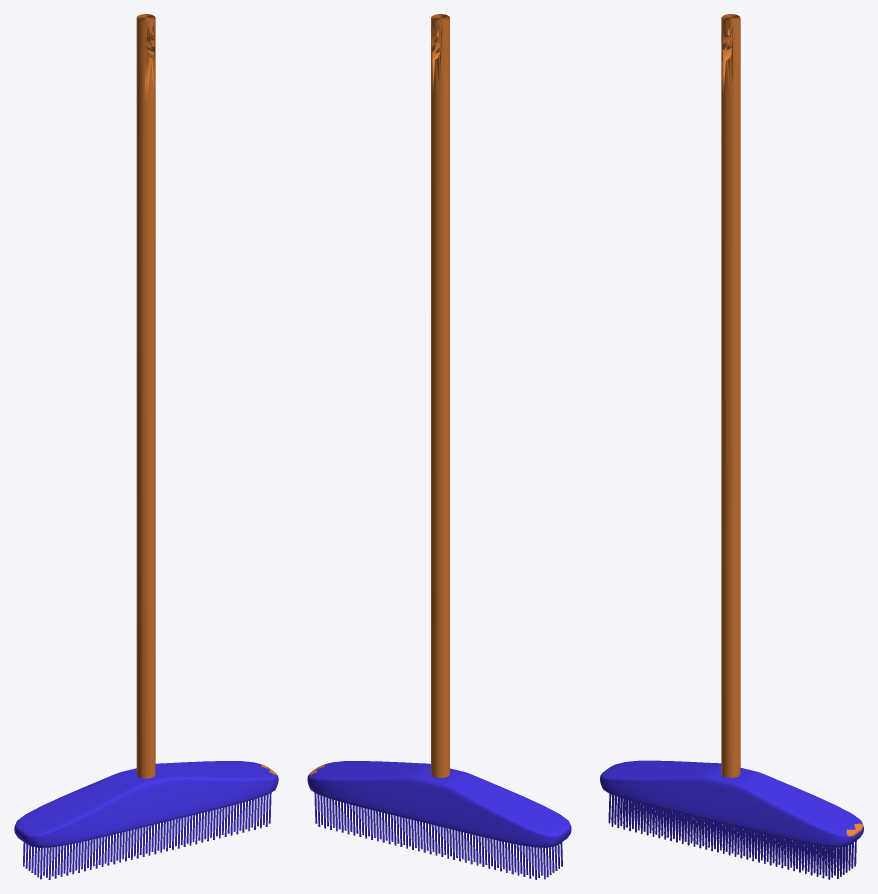
3 renders of one model, left to right at view 1: azimuth 30°, elevation 25°; view 2: azimuth 150°, elevation 25°; view 3: azimuth 330°, elevation 25°, orthographic.
Parts seen in each view (by area): view 1: broom; view 2: broom; view 3: broom.
Boxes of the visible parts, <box> form: broom: <box>14,14,278,879</box>; broom: <box>307,14,571,879</box>; broom: <box>600,14,863,879</box>.
Bounding box in the file's own units: 606 × 1901 × 132.
